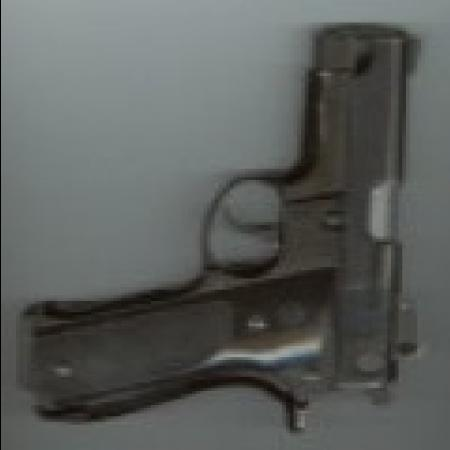Pistol: (19, 25, 431, 433)
